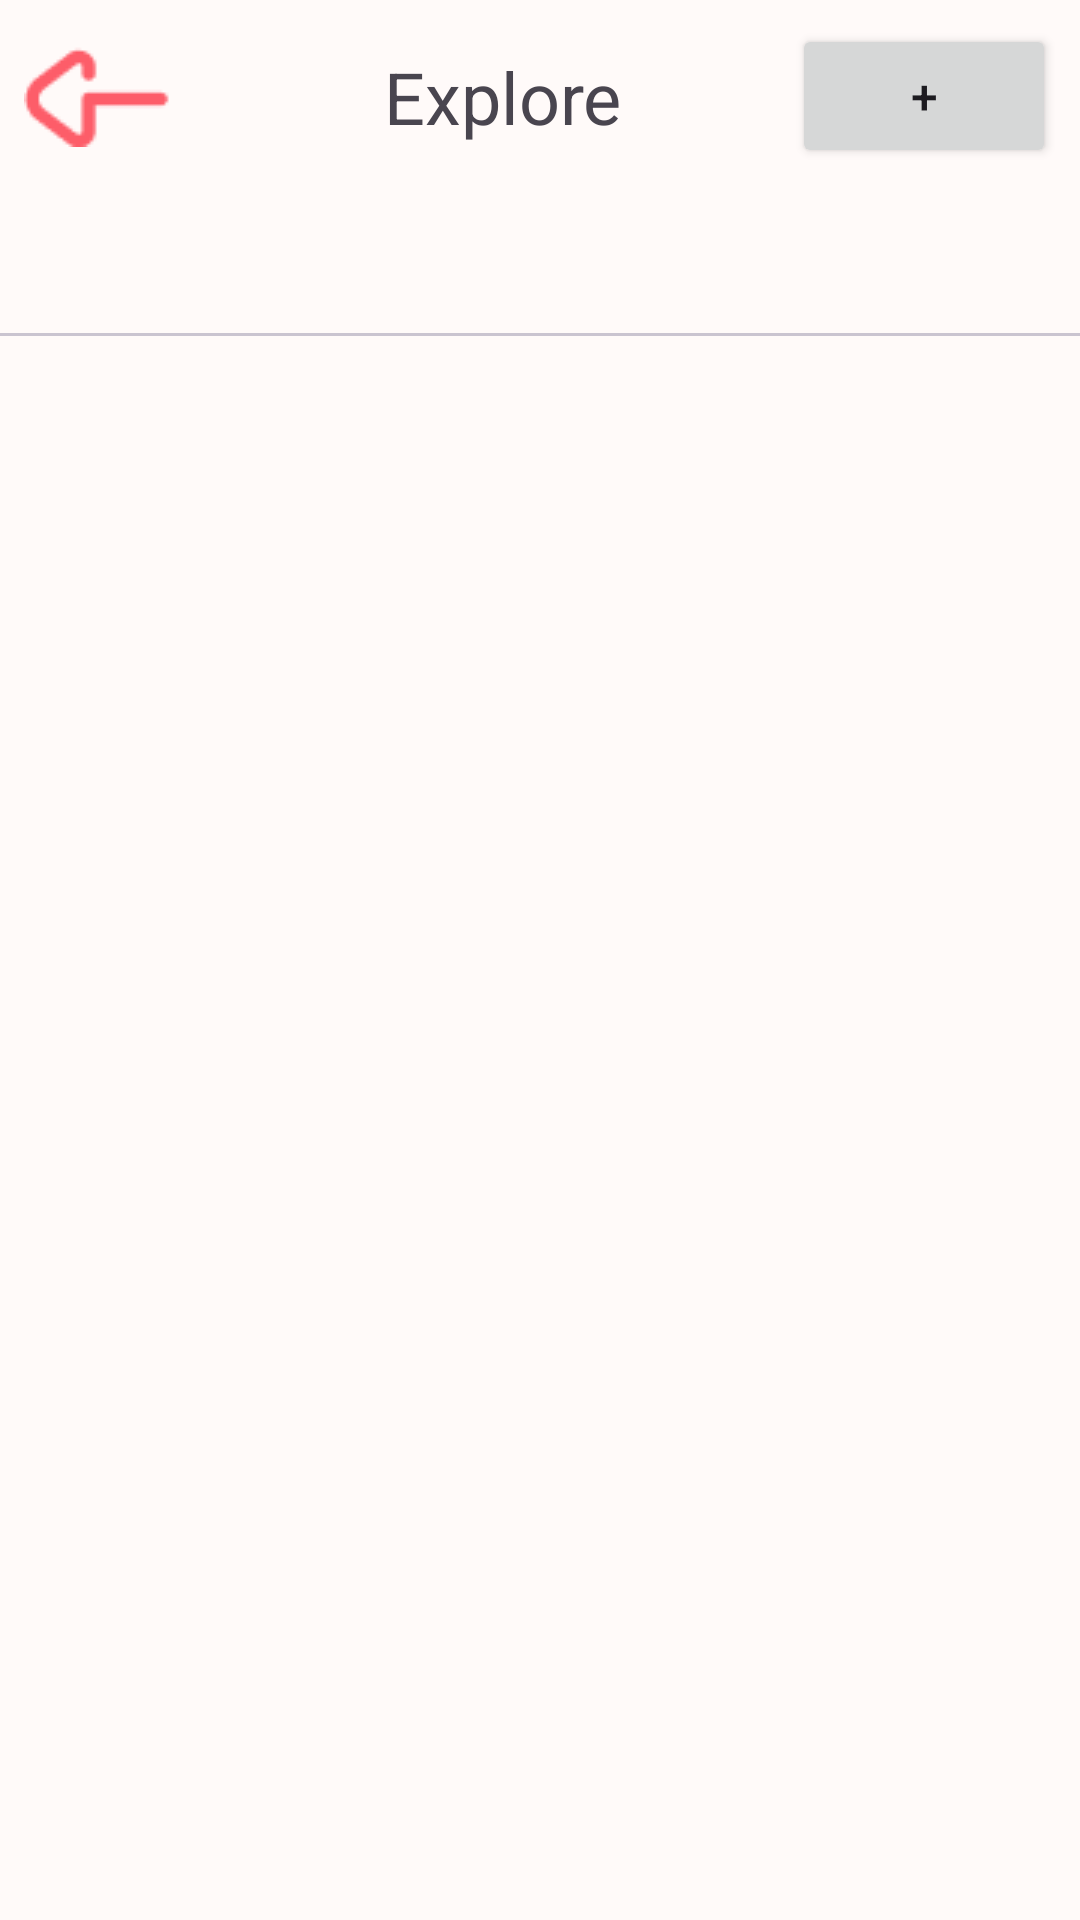

Icons on this 1080px x 1920px Android screen, each with the point to tap as [x,y]:
back arrow: [96,98]
